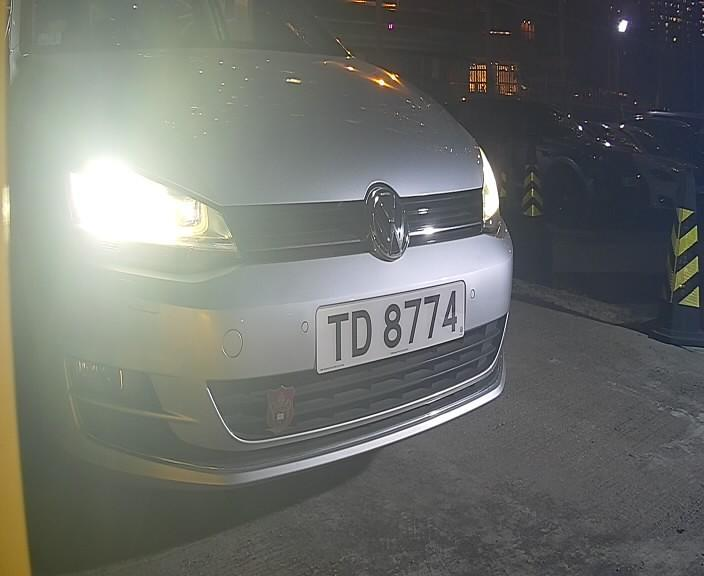License Plate: (305, 276, 472, 373)
